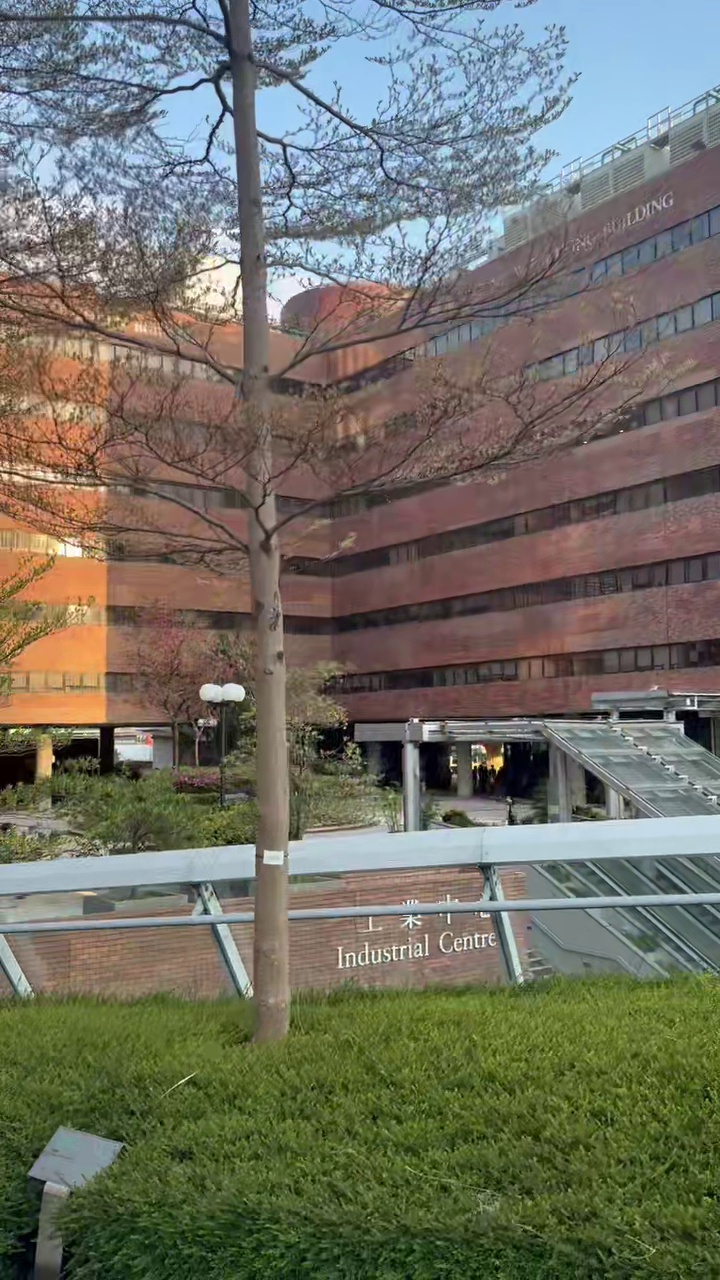Terminalia mantaly: (0, 0, 620, 1040)
